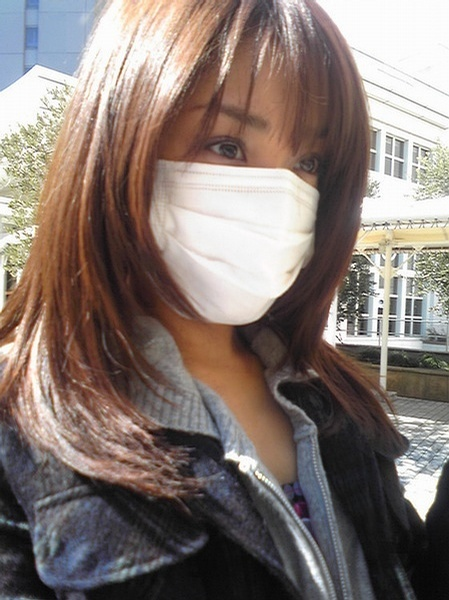face_mask: (150, 82, 317, 324)
